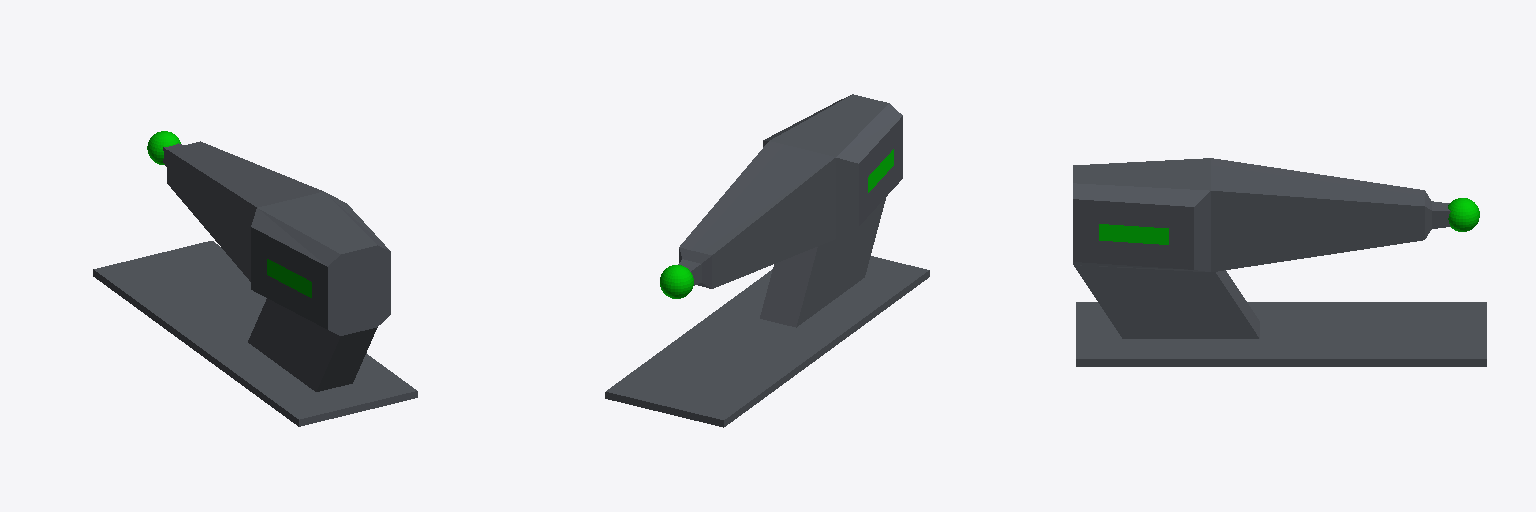
The model's file is beamlaser.obj.
3 renders of one model, left to right at view 1: azimuth 30°, elevation 25°; view 2: azimuth 150°, elevation 25°; view 3: azimuth 270°, elevation 25°, orthographic.
Visible parts, largest first — view 1: Cylinder; view 2: Cylinder; view 3: Cylinder.
Boxes of the visible parts, x1=… form: Cylinder: x1=93, y1=131, x2=417, y2=426; Cylinder: x1=605, y1=94, x2=929, y2=427; Cylinder: x1=1073, y1=158, x2=1486, y2=366.
Bounding box in the file's own units: 0.8 × 1.05 × 2.41.